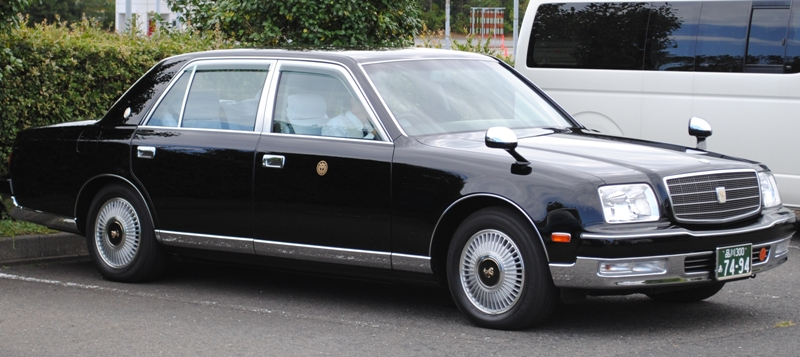plate: (713, 243, 753, 281)
